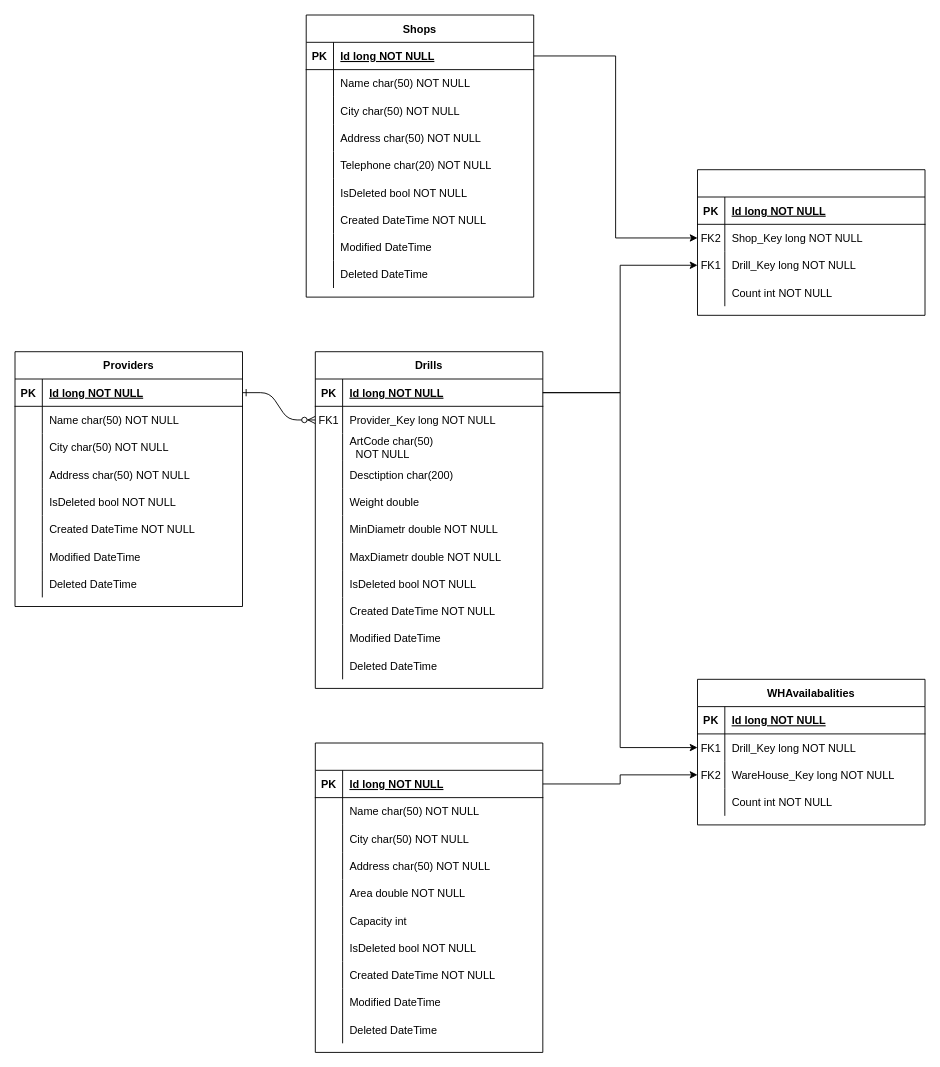
This 940x1067 diagram has some shape labels left out. The shapes that lost their labels are listed below. From the top down, each one's box as (x1, y1, x2, y2) in pixels, then its label:
(697, 169, 925, 315): ShopAvailabalities
(314, 742, 543, 1052): WareHouses
